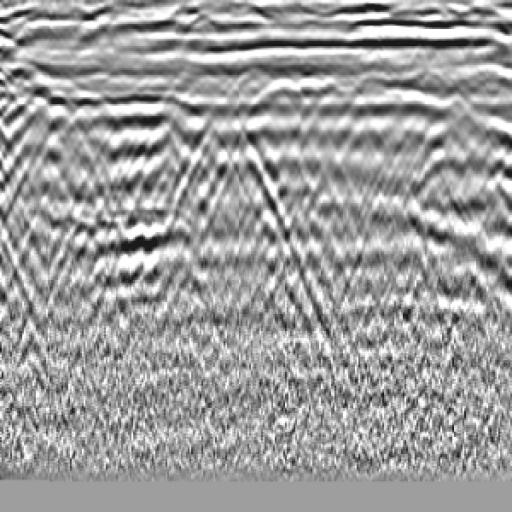non-metallic: (1, 72, 213, 350)
